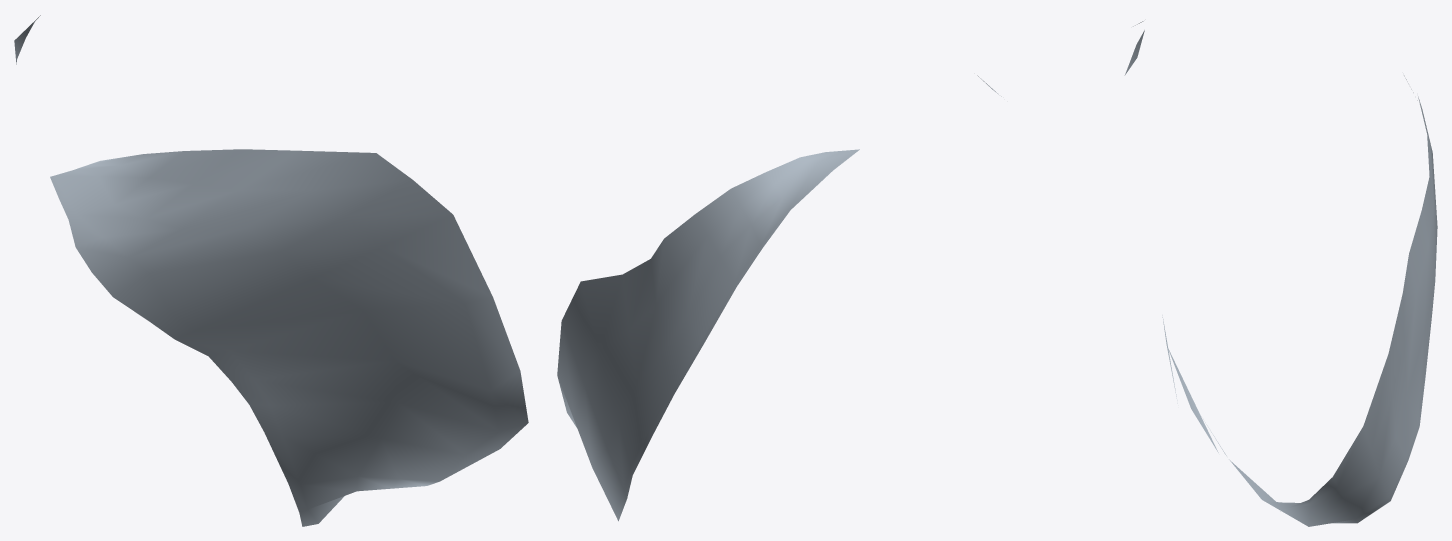
File: frenula-capsulae-r.glb
The picture shows the model from 3 angles, left to right: view 1: azimuth 30°, elevation 25°; view 2: azimuth 150°, elevation 25°; view 3: azimuth 270°, elevation 25°; orthographic projection. The views are drawn at different scales.
Visible parts, largest first — view 1: Frenula capsulae.r; view 2: Frenula capsulae.r; view 3: Frenula capsulae.r.
Part boxes in pixels (x1,y1,x2,y2): Frenula capsulae.r: (14, 15, 528, 526); Frenula capsulae.r: (557, 75, 1001, 521); Frenula capsulae.r: (1124, 21, 1437, 526).
Size of the model in its own units: 0.0376 by 0.0417 by 0.037.
